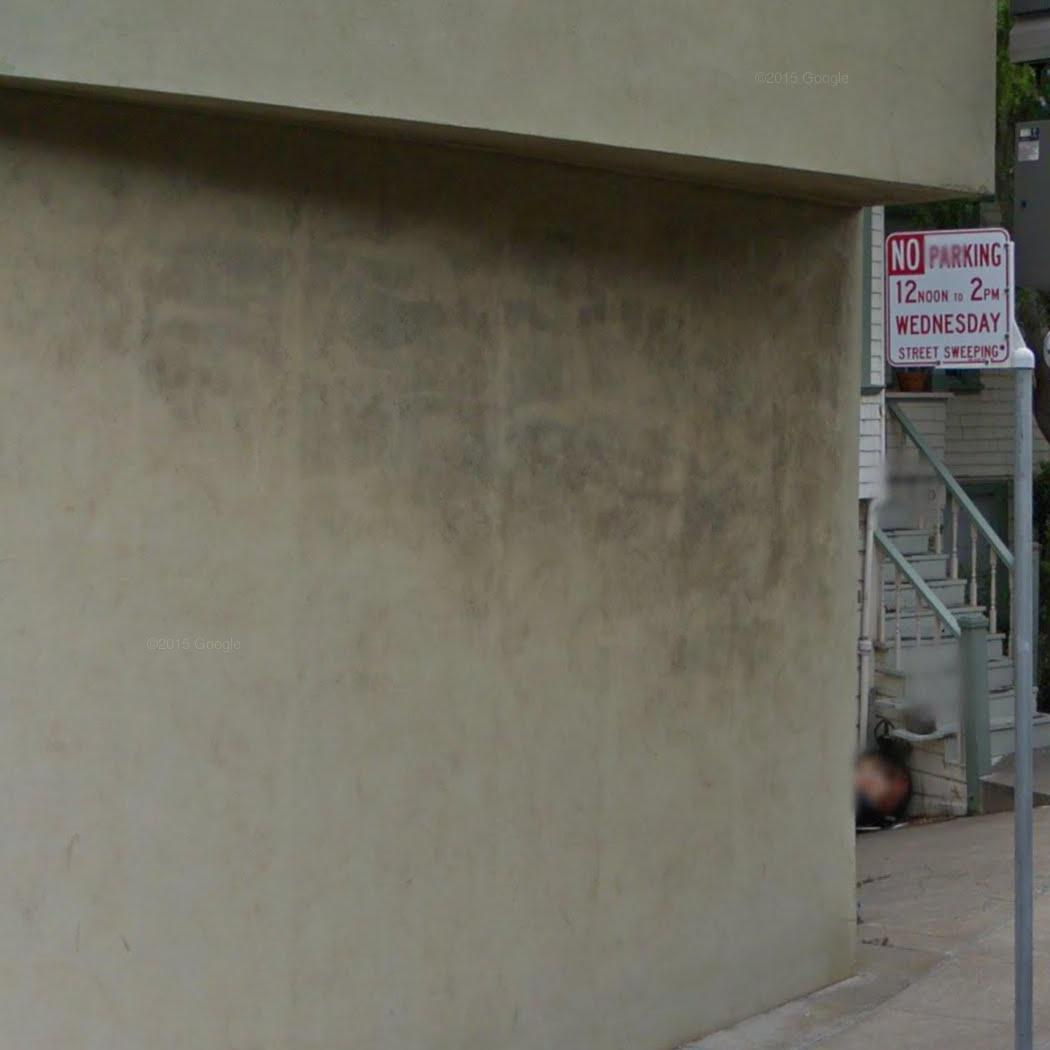No Parking: (879, 220, 1017, 374)
